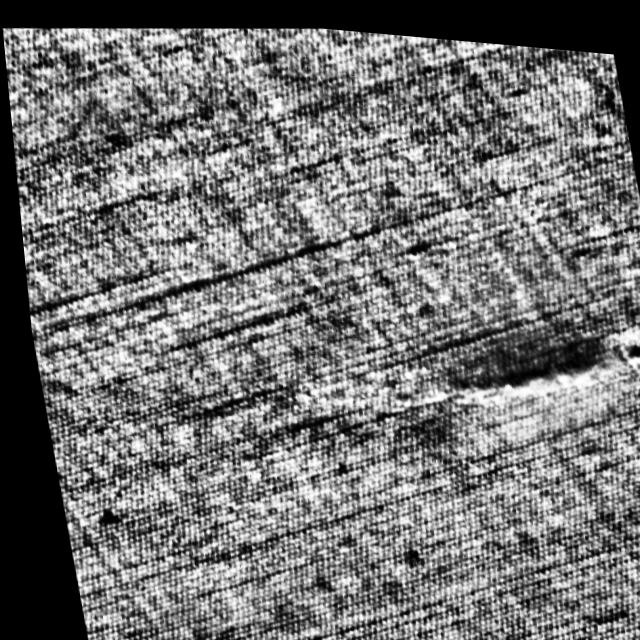Stitch: (399, 280, 639, 448)
